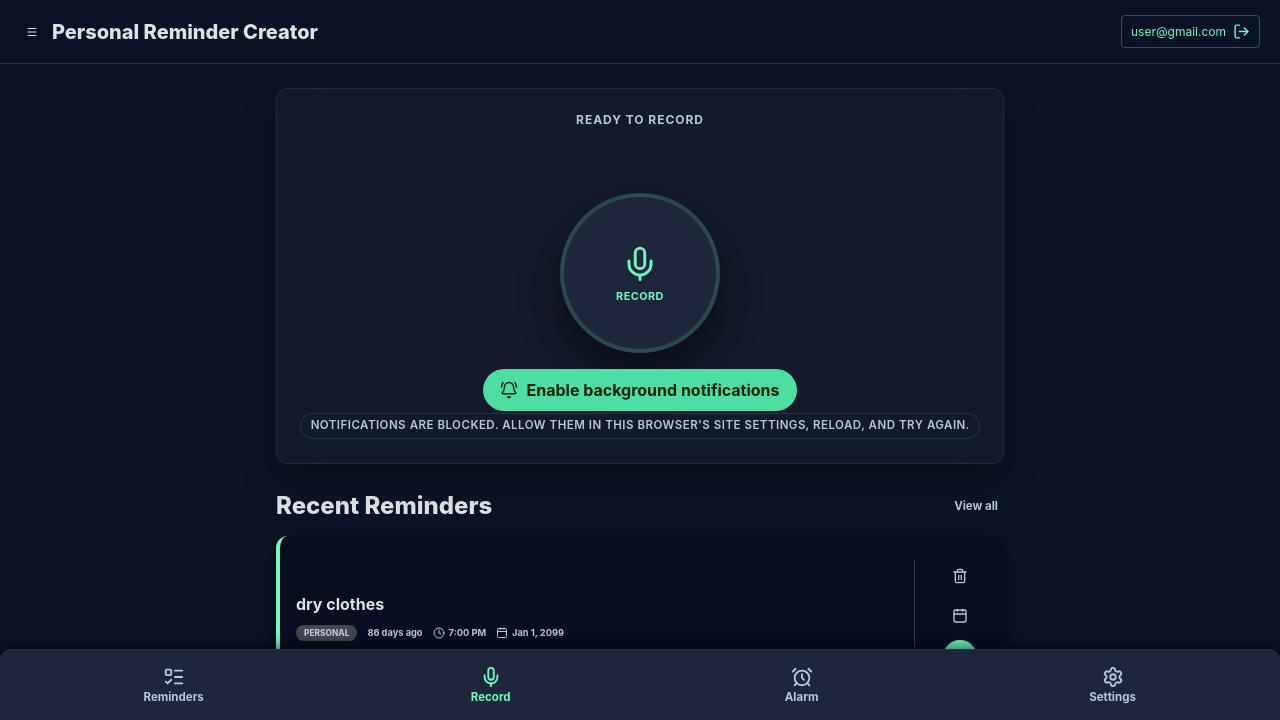
Test case: App › removes the alarm when the reminder is deleted
The image size is (1280, 720).
Expected: the text "dry clothes" is shown, [296,594,384,614]
What coordinates should you click on to do the following:
click the button named "delete dry clothes"
I would click on:
 (960, 576)
Its box is [944,560,976,592].
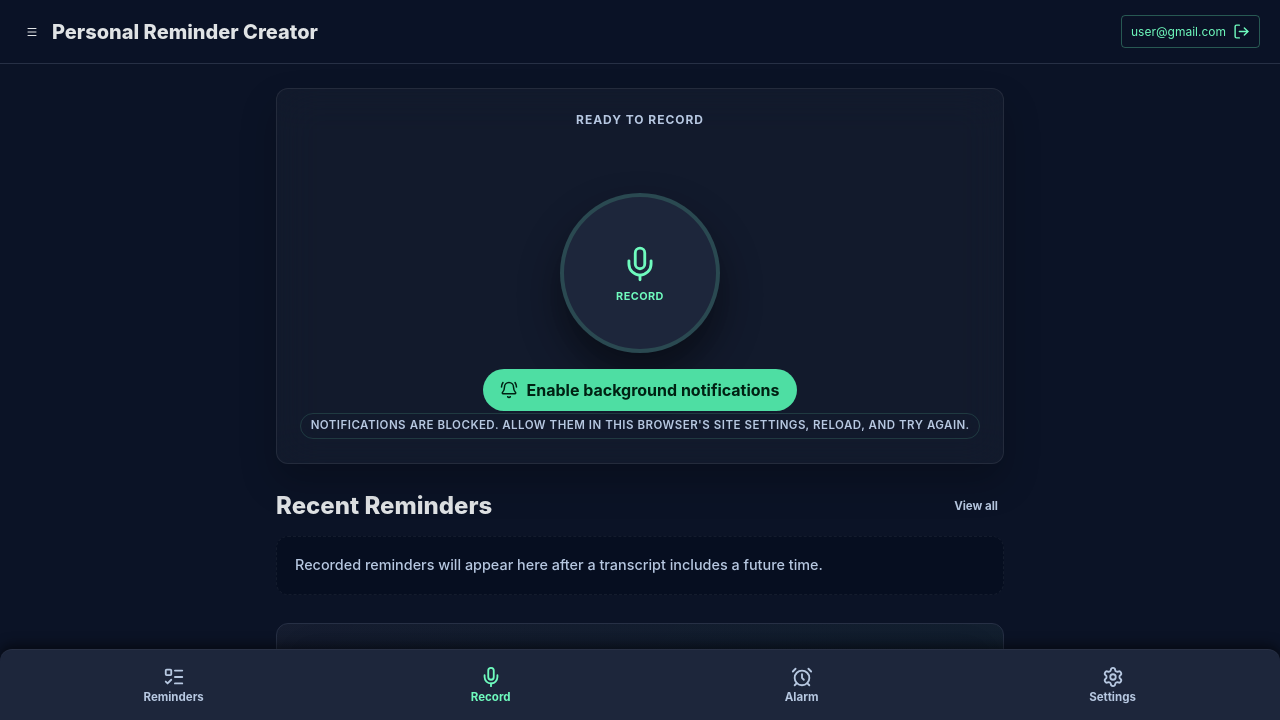
Now the text "dry clothes" is gone
What coordinates should you click on to do the following:
click the link "Alarm"
I would click on:
 (802, 685)
Its box is [785,666,818,704].
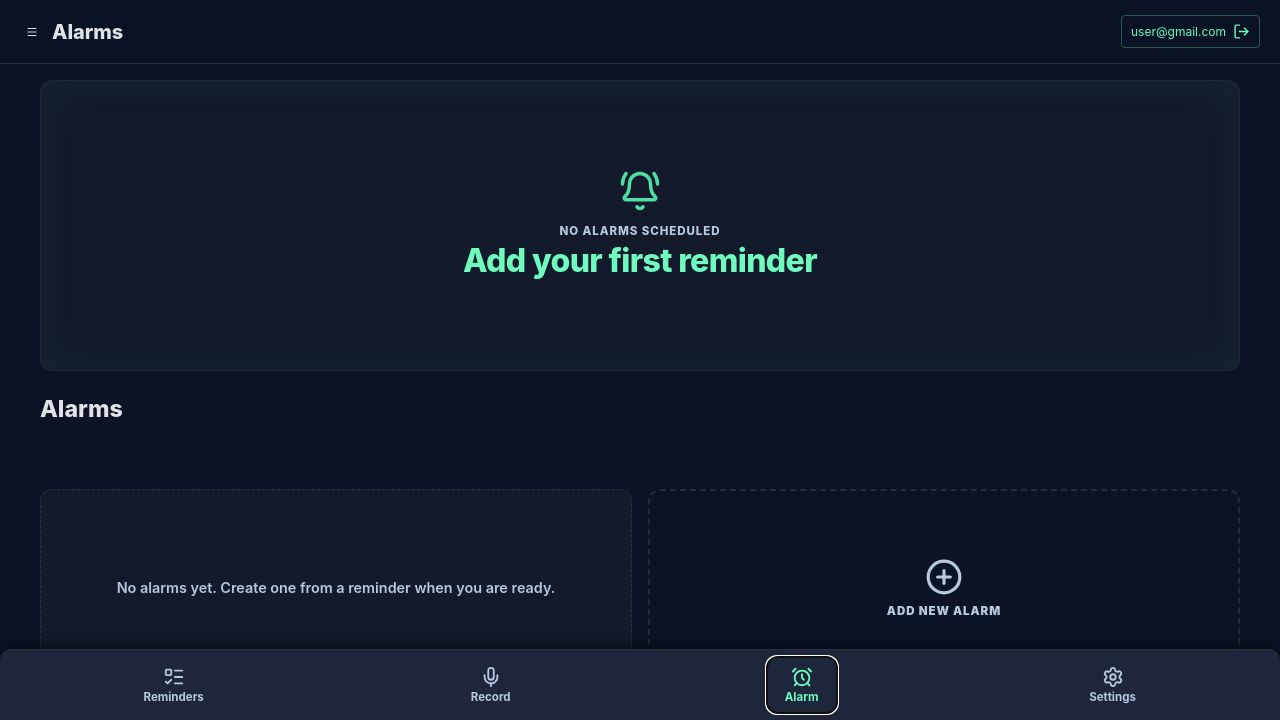
Now the text "No alarms scheduled" is shown, box [560,224,720,238]
